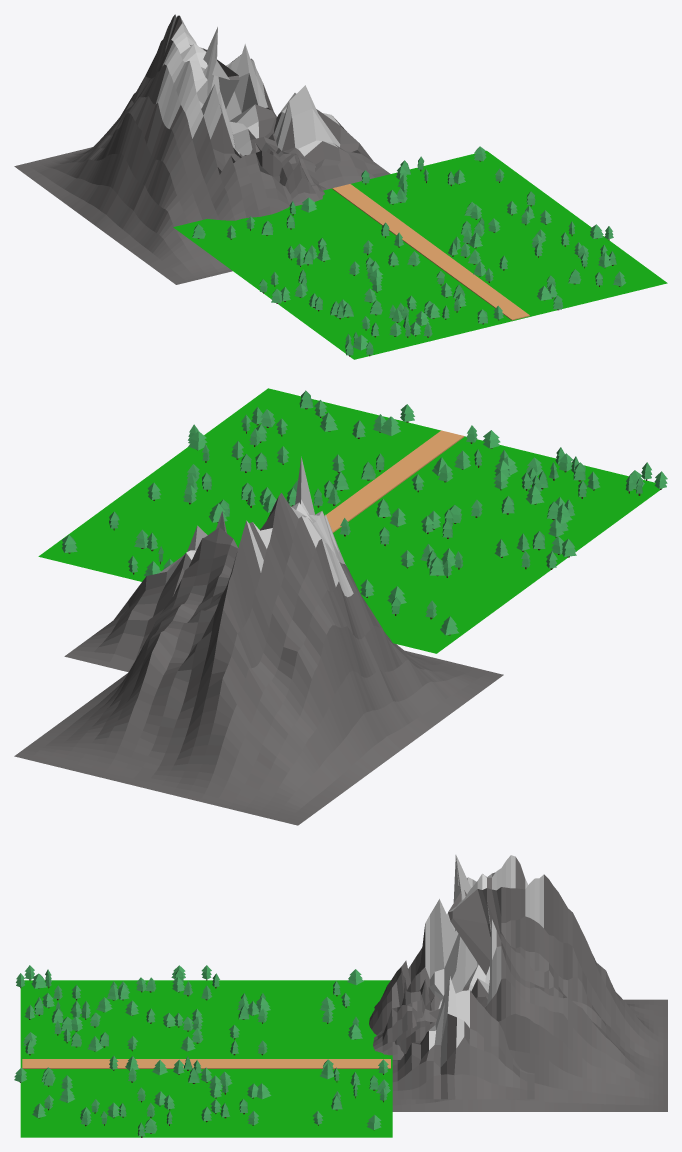
Rendered from hutan.fbx.
3 renders of one model, top to bottom at view 1: azimuth 30°, elevation 25°; view 2: azimuth 150°, elevation 25°; view 3: azimuth 270°, elevation 25°, orthographic. The views are drawn at different scales.
Visible parts, largest first — view 1: gunung_1, rumput, jalan; view 2: gunung_1, rumput, jalan; view 3: gunung_1, rumput, jalan.
Part boxes in pixels (box(x1,y1,x2,y2)): gunung_1: box(14, 14, 390, 284); rumput: box(173, 150, 667, 359); jalan: box(332, 184, 529, 320); gunung_1: box(14, 456, 503, 825); rumput: box(38, 388, 662, 653); jalan: box(326, 430, 464, 532); gunung_1: box(369, 855, 667, 1111); rumput: box(20, 980, 392, 1137); jalan: box(22, 1059, 390, 1068).
Size of the model in its own units: 436 by 233 by 703.
